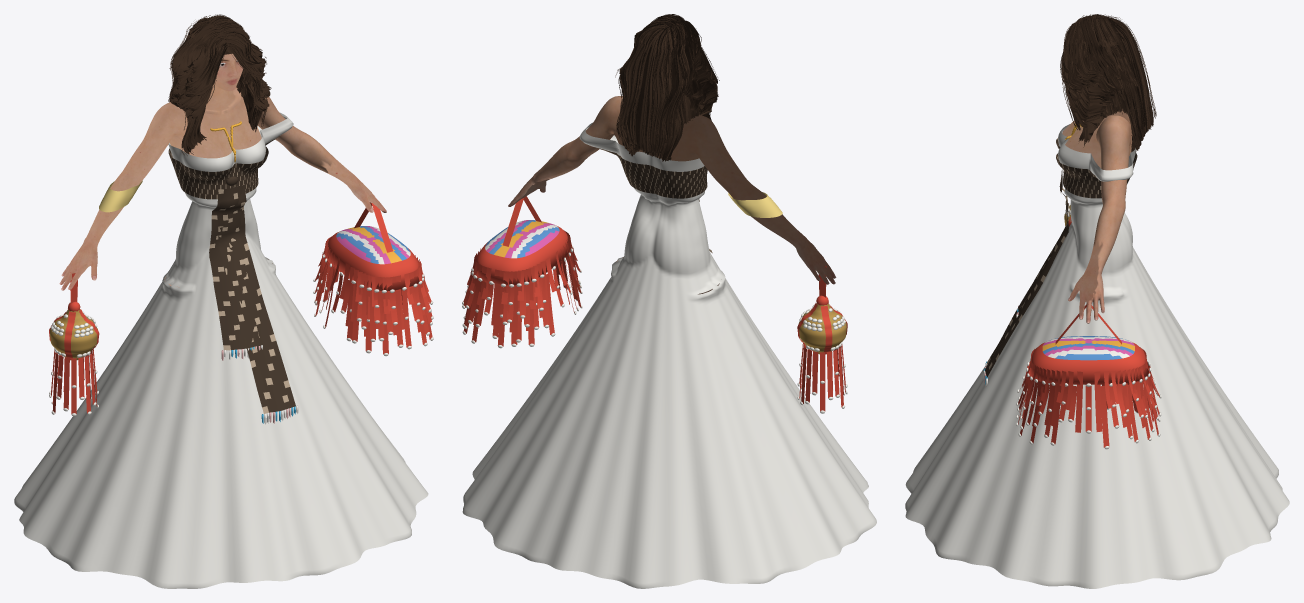
Rendered from female-oromo-white.glb.
3 views of the same model, side by side, from view 1: azimuth 30°, elevation 25°; view 2: azimuth 150°, elevation 25°; view 3: azimuth 270°, elevation 25° (orthographic).
Parts seen in each view (by area): view 1: WD_Dress, WD_Sash, WD_Basket, Hair_hair1_0, Full_Body_Arms1_0, WD_Gourd, Full_Body_Body1_0, Full_Body_Mouth Cavity1_0, WD_Armband; view 2: WD_Dress, WD_Basket, Hair_hair1_0, Full_Body_Arms1_0, WD_Gourd, WD_Sash, WD_Armband, Full_Body_Body1_0; view 3: WD_Dress, WD_Basket, Hair_hair1_0, Full_Body_Arms1_0, WD_Sash, Full_Body_Body1_0.
Boxes of the visible parts, x1,y1,x2,y2 form: WD_Dress: (14, 112, 428, 588); WD_Sash: (168, 136, 298, 424); WD_Basket: (313, 202, 433, 356); Hair_hair1_0: (168, 14, 271, 155); Full_Body_Arms1_0: (60, 97, 386, 290); WD_Gourd: (49, 272, 99, 416); Full_Body_Body1_0: (170, 96, 261, 158); Full_Body_Mouth Cavity1_0: (204, 53, 243, 114); WD_Armband: (99, 180, 142, 212); WD_Dress: (462, 122, 876, 588); WD_Basket: (462, 196, 582, 348); Hair_hair1_0: (615, 14, 719, 161); Full_Body_Arms1_0: (508, 96, 834, 284); WD_Gourd: (797, 265, 847, 413); WD_Sash: (598, 148, 712, 253); WD_Armband: (728, 192, 782, 217); Full_Body_Body1_0: (614, 98, 698, 161); WD_Dress: (905, 124, 1289, 588); WD_Basket: (1016, 304, 1161, 449); Hair_hair1_0: (1060, 14, 1156, 152); Full_Body_Arms1_0: (1068, 115, 1131, 323); WD_Sash: (983, 138, 1137, 386); Full_Body_Body1_0: (1062, 109, 1132, 168).
Size of the model in its own units: 1.36 by 1.72 by 1.22.
23 materials, 8 textured.
